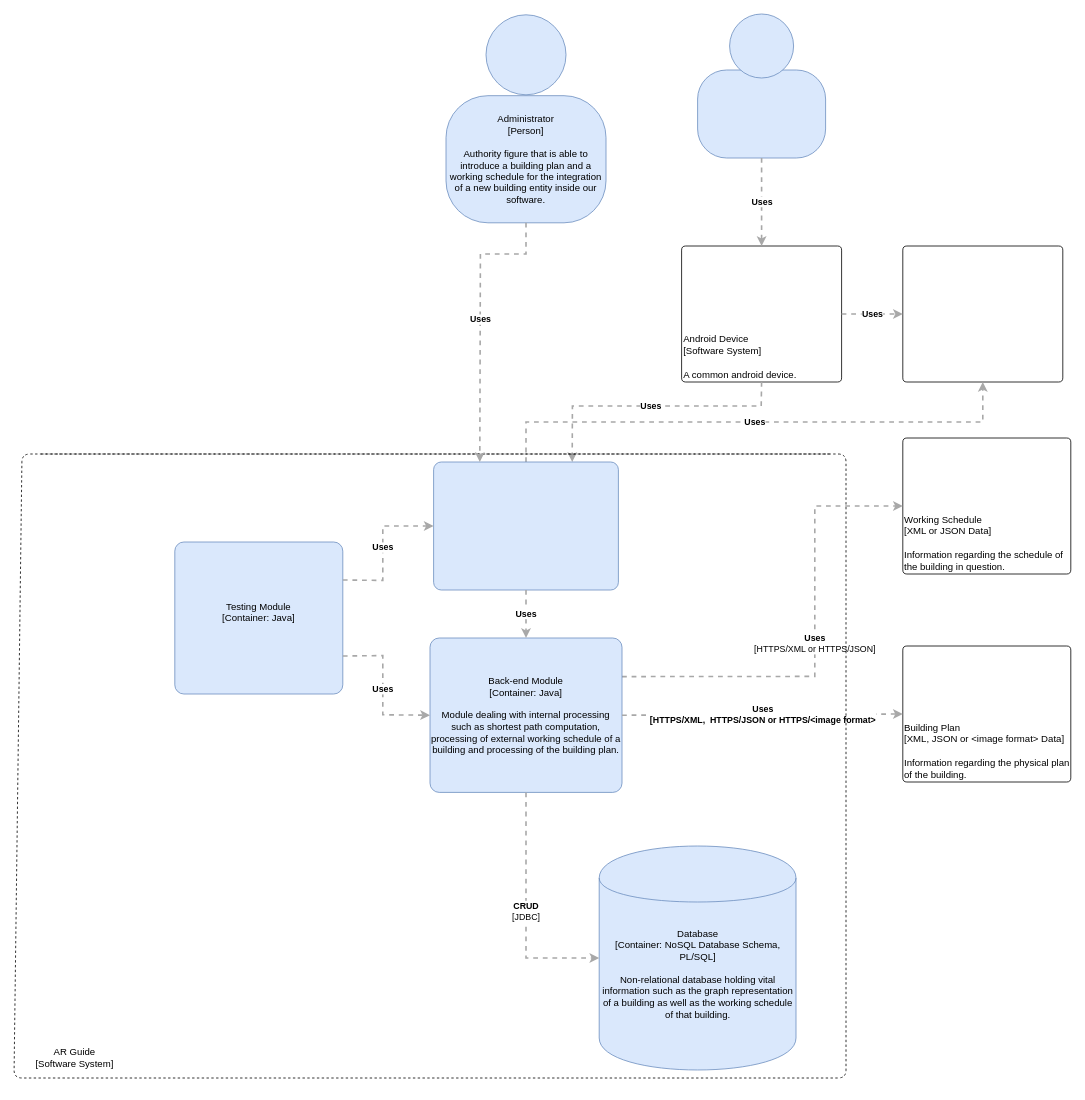
The diagram is 1085 pixels wide and 1100 high, and some of its shapes have lost their labels. Here are the shapes that lost their labels. From the top down, the centre of each, then its label:
At point 761,113: "User [Person] Individual utilizing our application.".
At point 982,313: "Camera [Software System] A simple video-capturing camera.".
At point 525,525: "Front-end Module [Container: Java ]".
